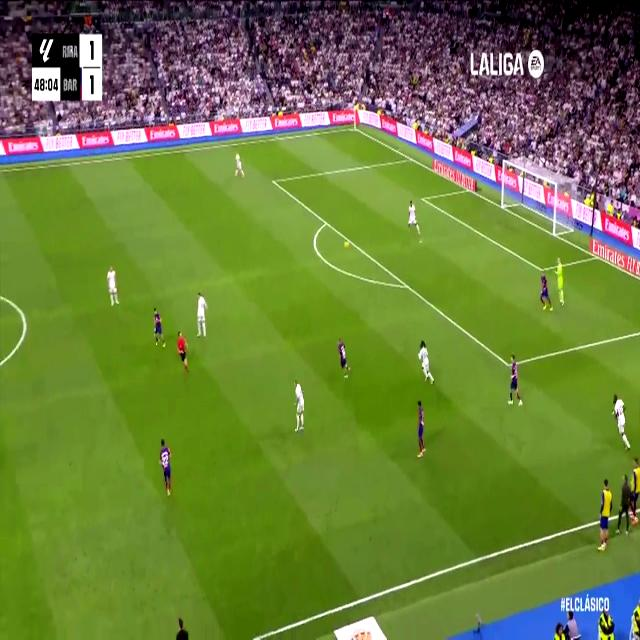bigarea_bottom_inner: (504, 354, 512, 374)
bigarea_top_inner: (269, 173, 277, 188)
bigarea_top_outter: (407, 152, 414, 164)
bottom_arc_area_intersection: (402, 276, 411, 294)
corner: (351, 122, 358, 133)
smallarea_top_inner: (419, 192, 426, 204)
top_arc_area_intersection: (322, 214, 330, 229)
